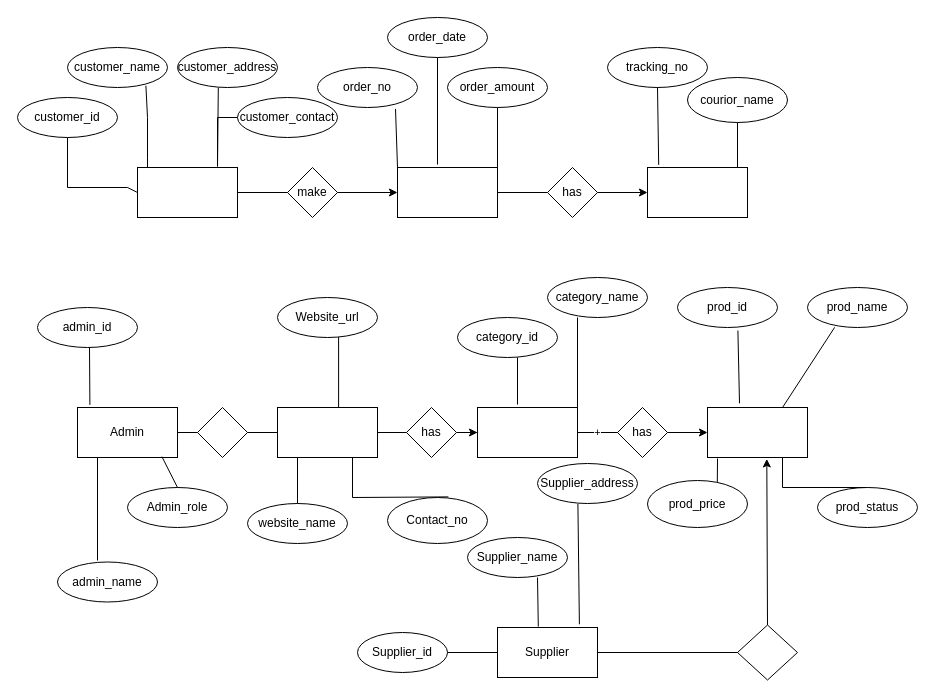
This 935x698 diagram has some shape labels left out. The shapes that lost their labels are listed below. From the top down, each one's centre as x and y in pixels, then its label:
(x=187, y=192): customer
(x=447, y=192): order
(x=697, y=192): Tracking Details
(x=222, y=432): manage
(x=327, y=432): Online Shopping Website
(x=527, y=432): Product category
(x=757, y=432): Product
(x=767, y=652): suppliers
